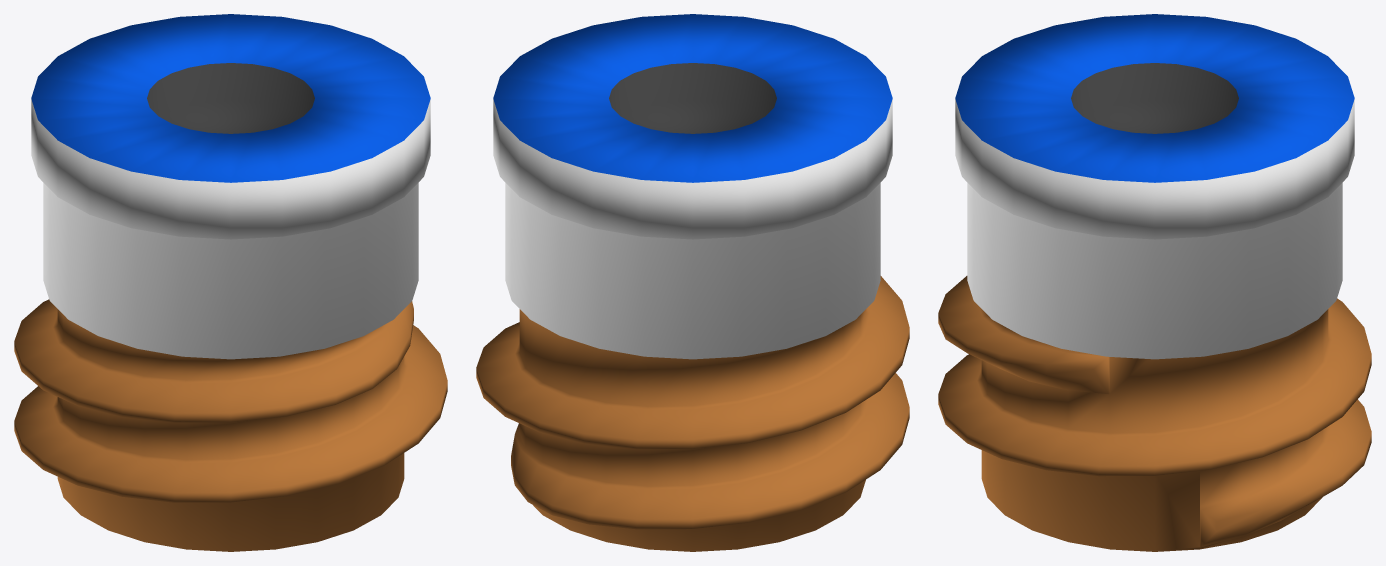
The model's file is FuseModel.fbx.
3 renders of one model, left to right at view 1: azimuth 30°, elevation 25°; view 2: azimuth 150°, elevation 25°; view 3: azimuth 270°, elevation 25°, orthographic.
Visible parts, largest first — view 1: Spiral; view 2: Spiral; view 3: Spiral.
Boxes of the visible parts, bbox=[...] form: Spiral: bbox=[14, 14, 447, 551]; Spiral: bbox=[476, 14, 909, 551]; Spiral: bbox=[938, 14, 1371, 551].
Size of the model in its own units: 25 by 24.2 by 25.
